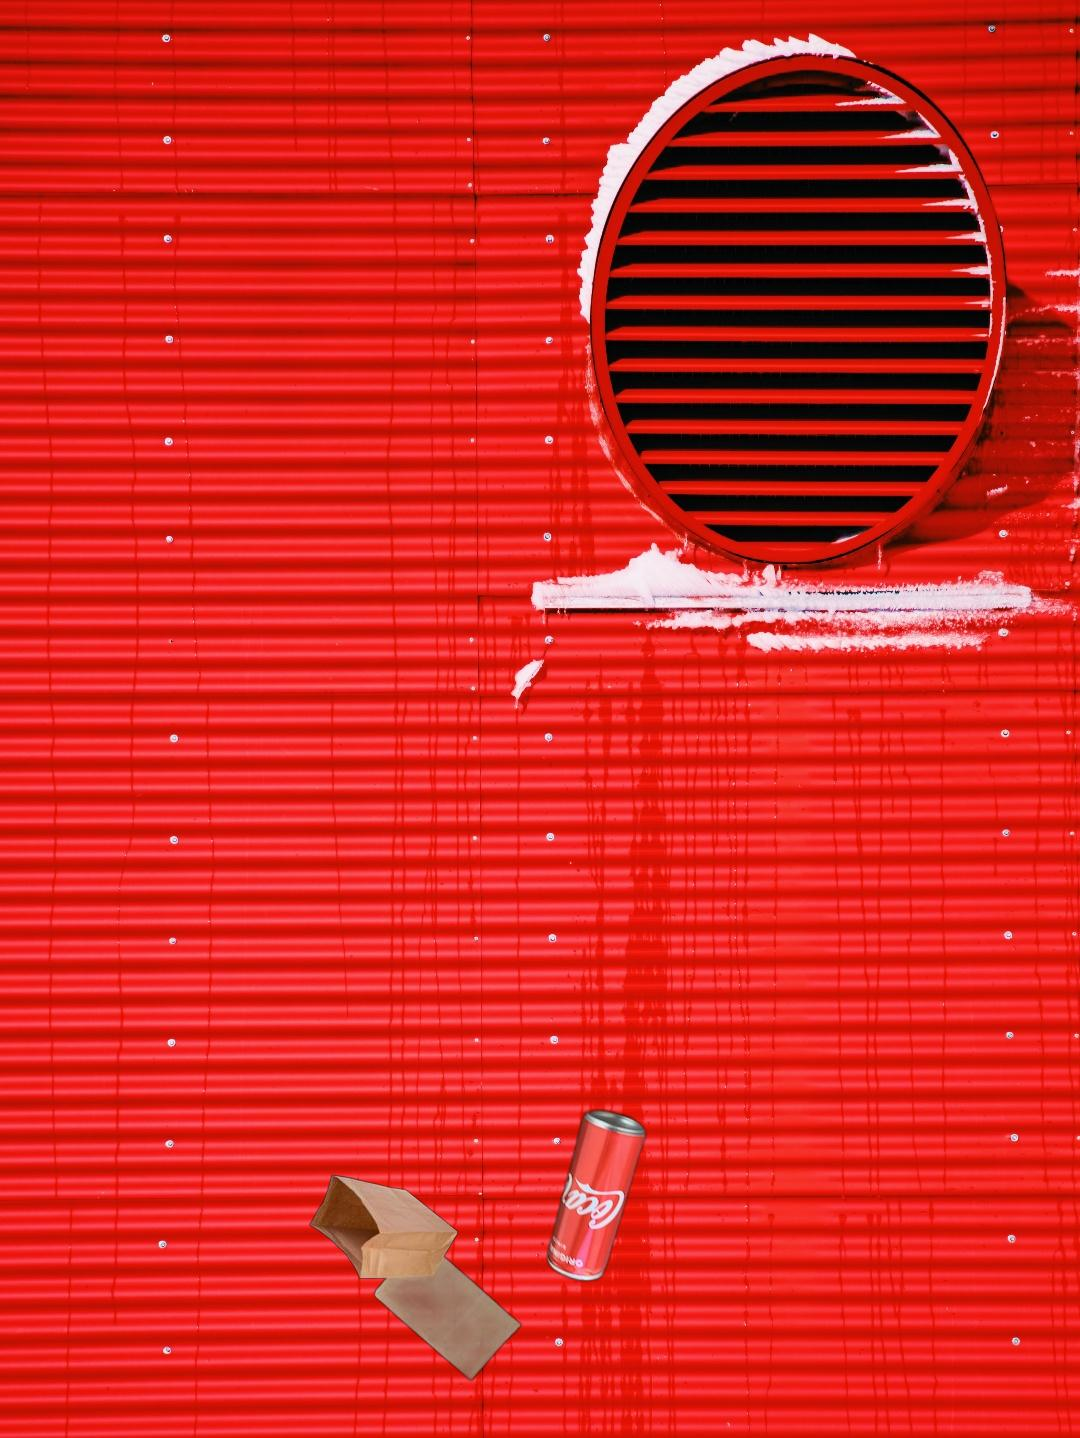metal-cans: (542, 1103, 650, 1288)
paper-bag: (307, 1174, 524, 1419)
